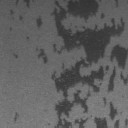red iron: (37, 0, 128, 128), (16, 0, 36, 8), (10, 9, 22, 20), (36, 16, 42, 28), (114, 0, 119, 8), (14, 112, 18, 122), (13, 52, 18, 59), (9, 26, 13, 32), (26, 36, 30, 40)
